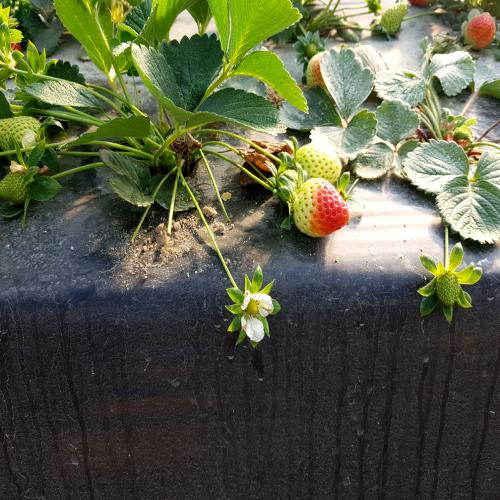partially-ripe: (292, 172, 353, 250)
